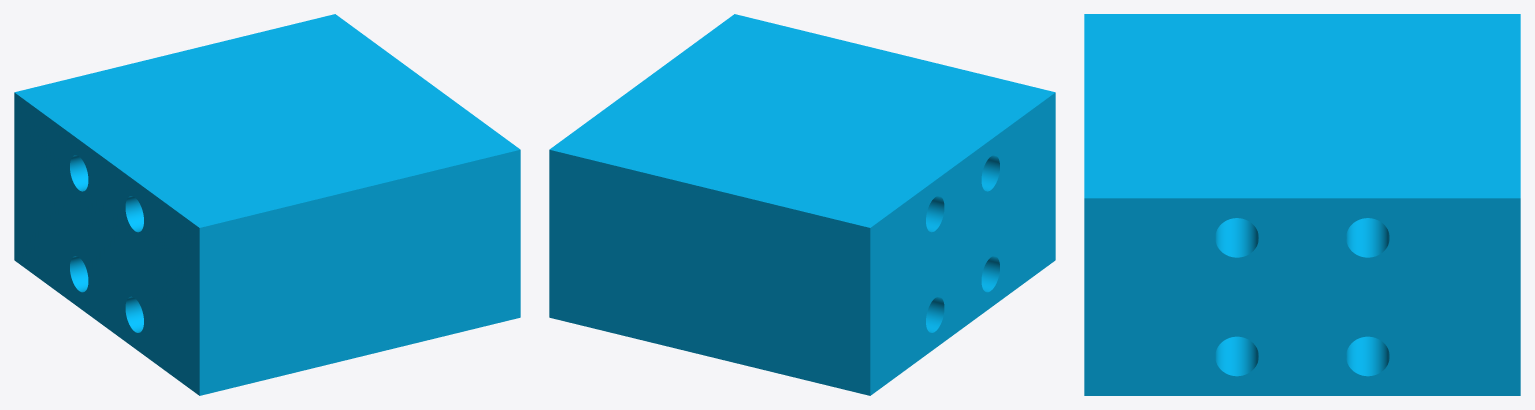
File: tag_etiketle_secim_islem.gltf
3 views of the same model, side by side, from view 1: azimuth 30°, elevation 25°; view 2: azimuth 150°, elevation 25°; view 3: azimuth 270°, elevation 25° (orthographic). The views are drawn at different scales.
Parts seen in each view (by area): view 1: Gövde; view 2: Gövde; view 3: Gövde.
Part boxes in pixels (x1,y1,x2,y2): Gövde: (14,14,520,395); Gövde: (549,14,1055,395); Gövde: (1084,14,1520,395).
Size of the model in its own units: 0.01 by 0.005 by 0.01.
